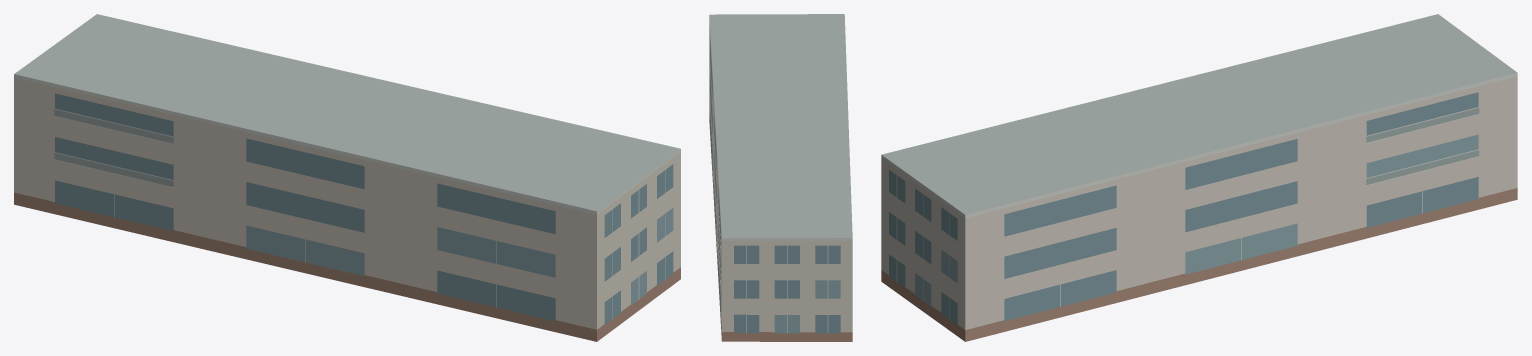
The model's file is survey-upis-32750088.glb.
The picture shows the model from 3 angles, left to right: view 1: azimuth 30°, elevation 25°; view 2: azimuth 150°, elevation 25°; view 3: azimuth 270°, elevation 25°; orthographic projection. The views are drawn at different scales.
Parts seen in each view (by area): view 1: survey-upis-32750088.tmp; view 2: survey-upis-32750088.tmp; view 3: survey-upis-32750088.tmp.
Boxes of the visible parts, x1,y1,x2,y2 form: survey-upis-32750088.tmp: (14, 14, 680, 341); survey-upis-32750088.tmp: (709, 14, 852, 341); survey-upis-32750088.tmp: (881, 14, 1517, 341).
Bounding box in the file's own units: 31.58 × 9.3 × 42.25.
